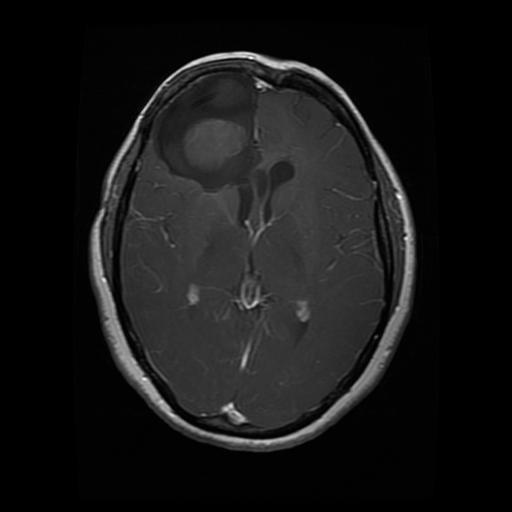Gliomia_tumour: (153, 73, 300, 232)
